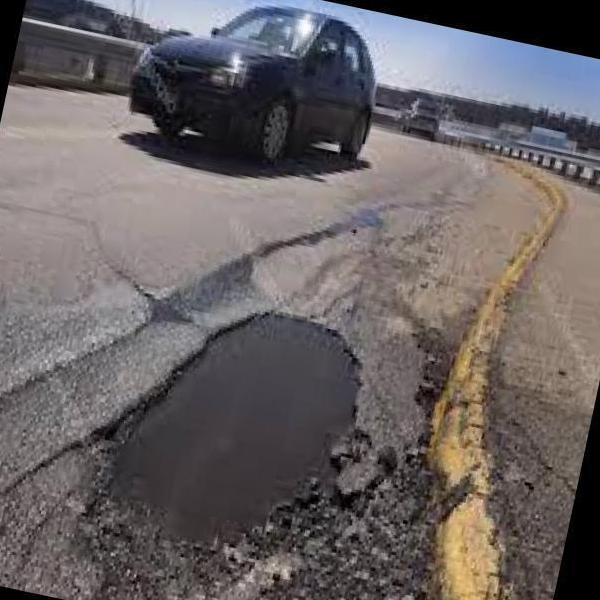pothole: (58, 286, 380, 574)
